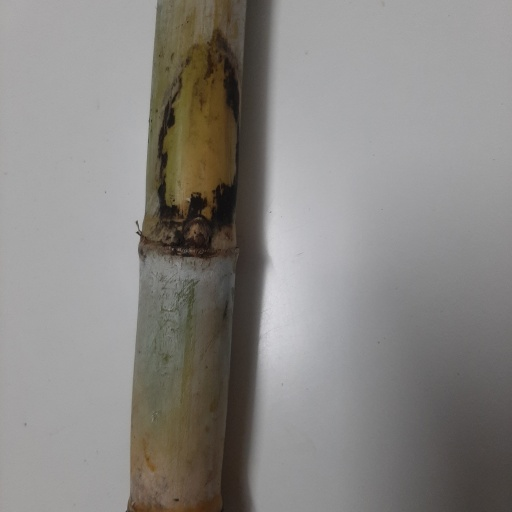Bud: (183, 217, 209, 249)
